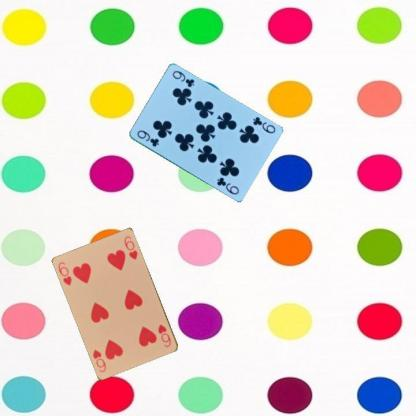6h: (56, 260, 74, 287), (156, 322, 172, 348)
9c: (134, 126, 160, 148), (249, 113, 276, 134)
